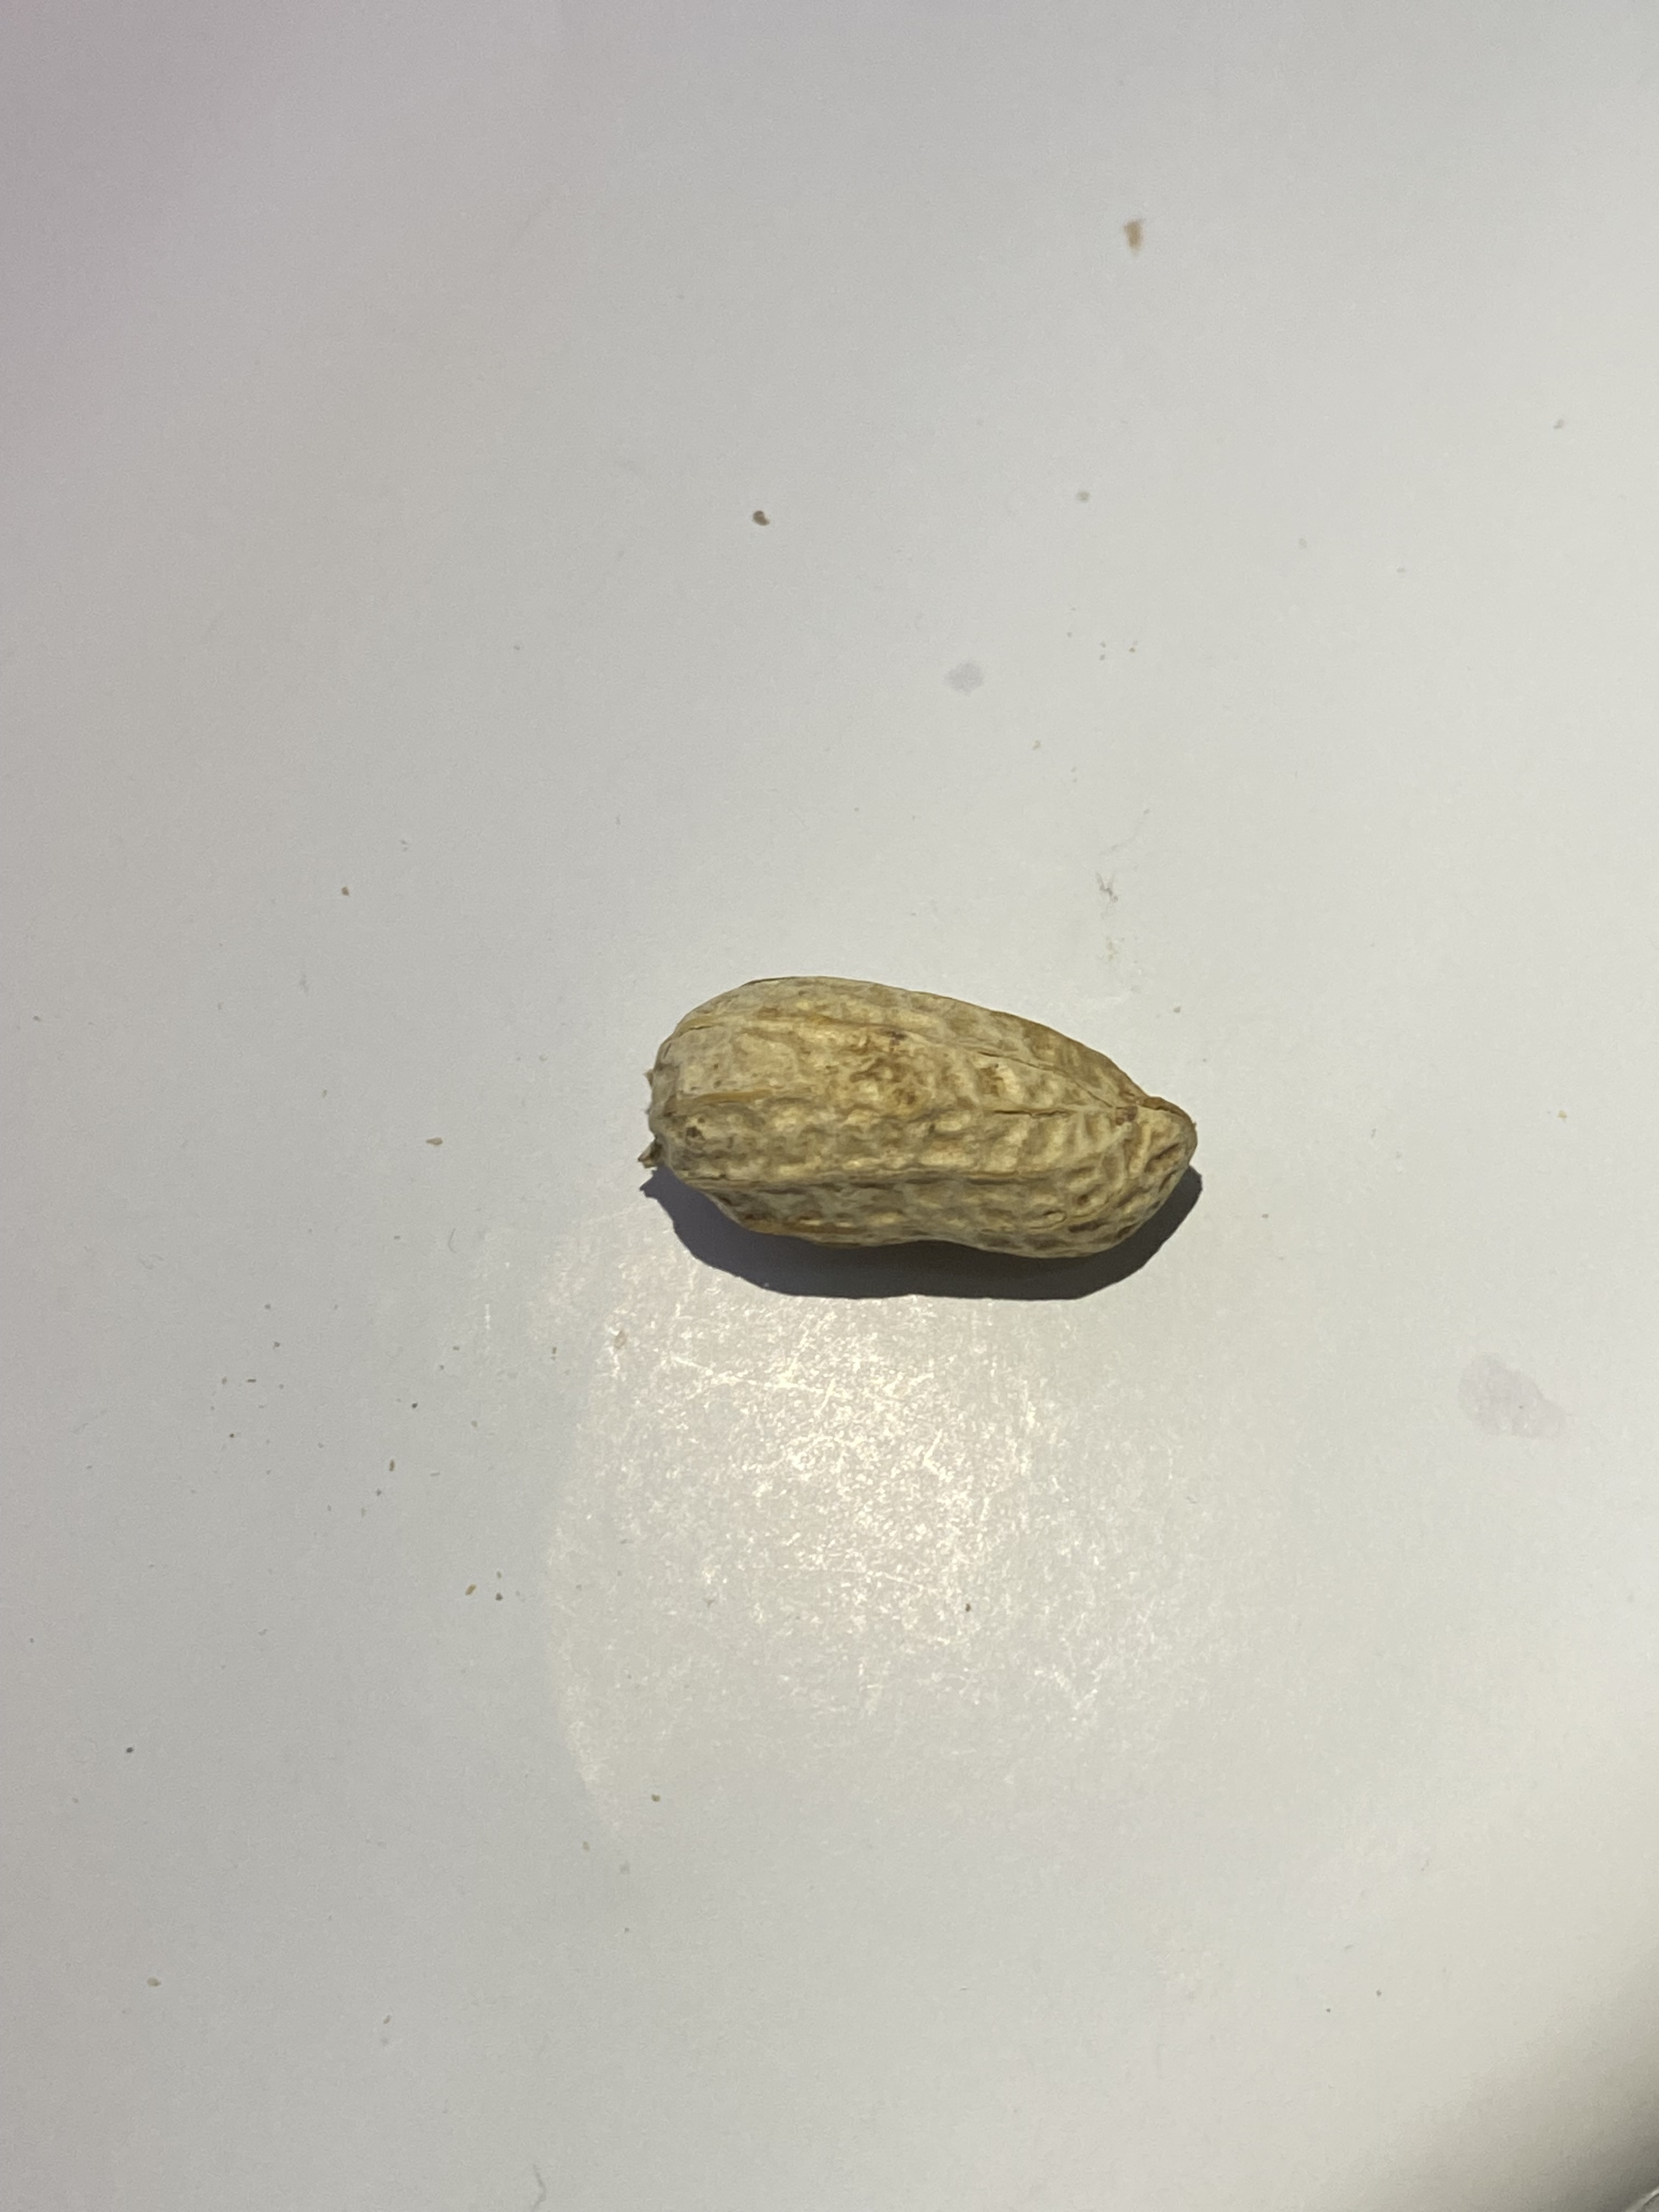kacang2: (615, 958, 1204, 1270)
